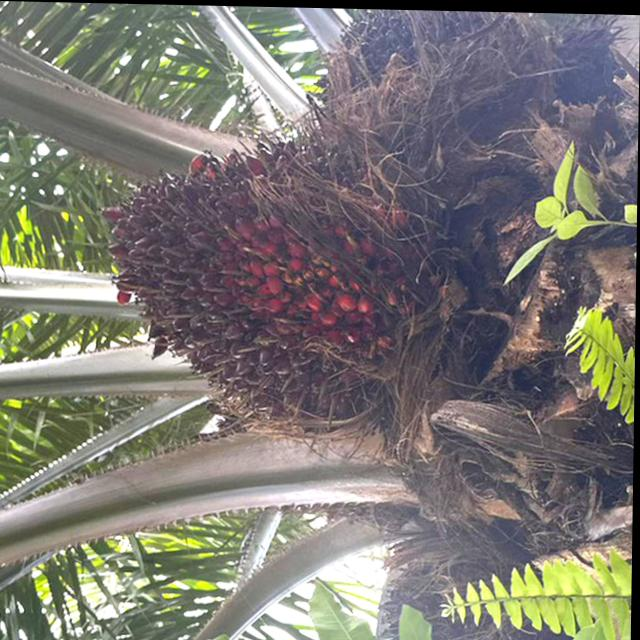ripe: (75, 94, 445, 463)
